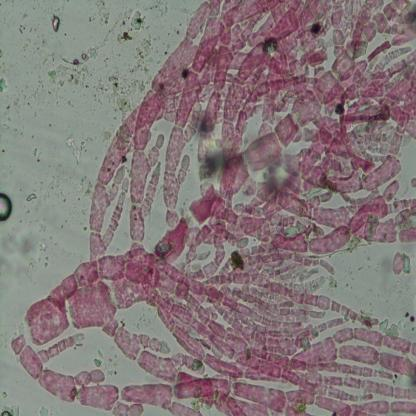Air bubble: (0, 191, 13, 225), (51, 13, 63, 32)
Background material: (44, 46, 100, 90), (101, 68, 132, 119), (115, 9, 144, 43), (132, 37, 151, 88), (15, 9, 35, 57), (12, 85, 44, 111), (88, 1, 117, 25), (0, 100, 19, 134), (390, 250, 410, 278), (62, 135, 80, 164), (151, 3, 174, 22), (399, 305, 416, 326), (25, 192, 37, 202), (34, 148, 41, 162), (0, 77, 7, 91)
